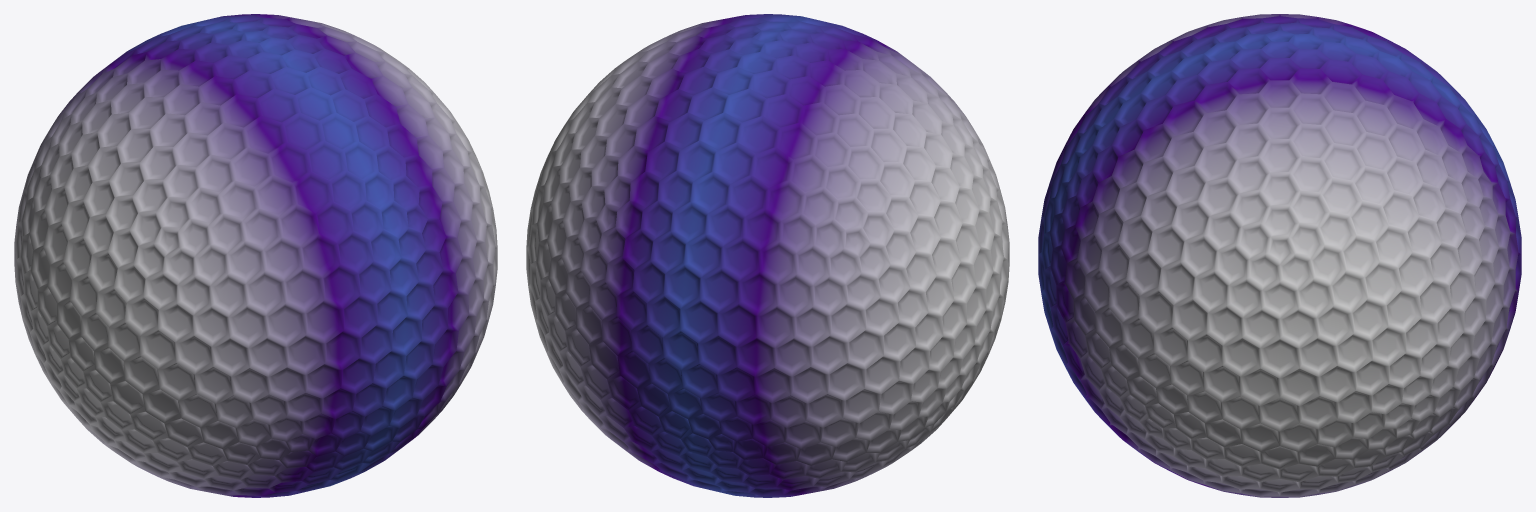
Rendered from Gradient1Ball.fbx.
The picture shows the model from 3 angles, left to right: view 1: azimuth 30°, elevation 25°; view 2: azimuth 150°, elevation 25°; view 3: azimuth 270°, elevation 25°; orthographic projection.
Visible parts, largest first — view 1: GolfBall; view 2: GolfBall; view 3: GolfBall.
Boxes of the visible parts, <box> form: GolfBall: <box>14,14,497,497</box>; GolfBall: <box>526,14,1009,497</box>; GolfBall: <box>1038,14,1521,497</box>.
Bounding box in the file's own units: 37.86 × 38 × 37.87.
1 material, 1 textured.
